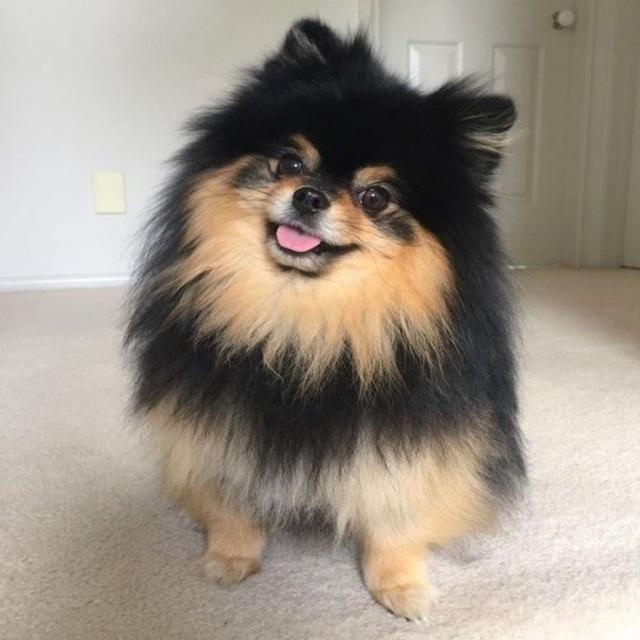Dogs: (110, 18, 540, 624)
